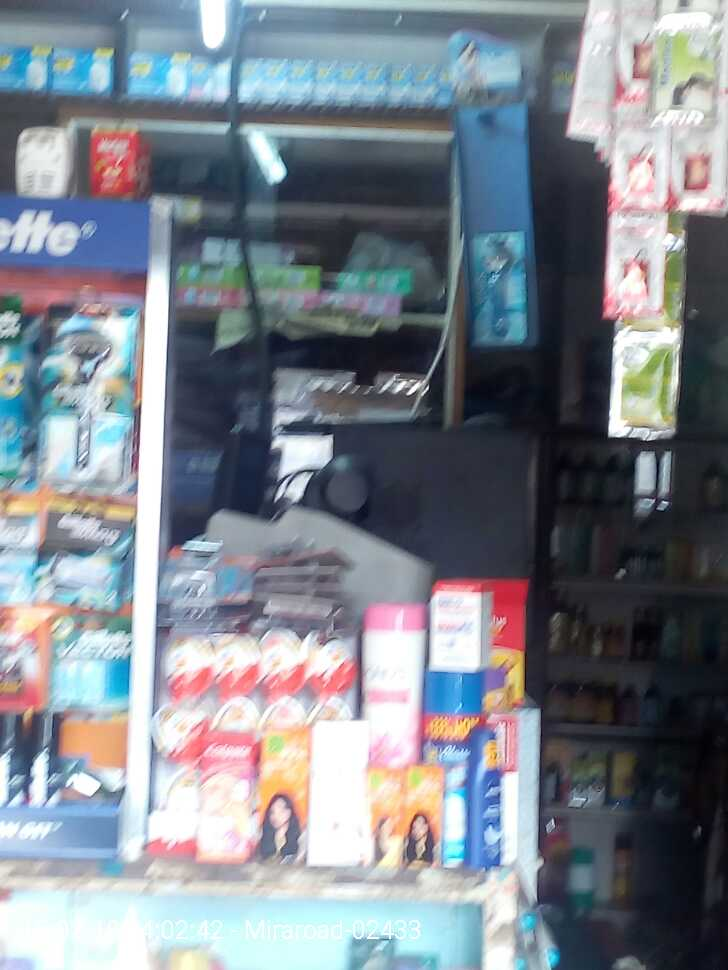beauty: (56, 293, 134, 475), (43, 506, 128, 609), (43, 615, 133, 704), (469, 231, 525, 350)
